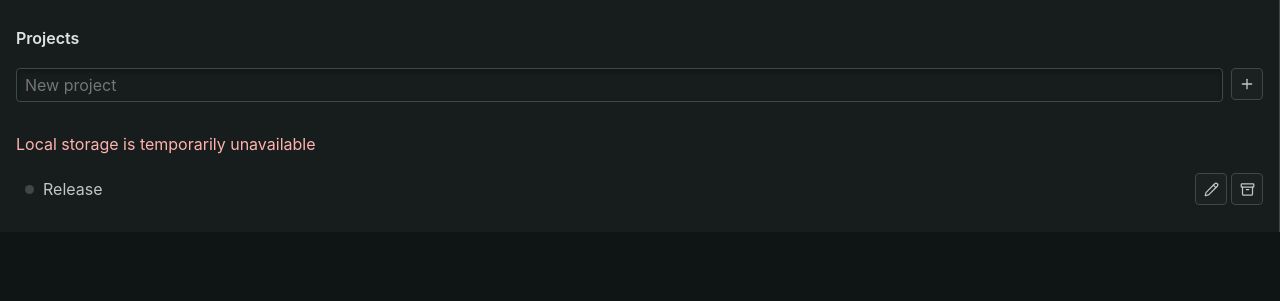
Test: ProjectList › shows list and mutation failures as separate alerts
Type "Planning" into the field named "Project name" at (620, 85), box [16,68,1223,102]
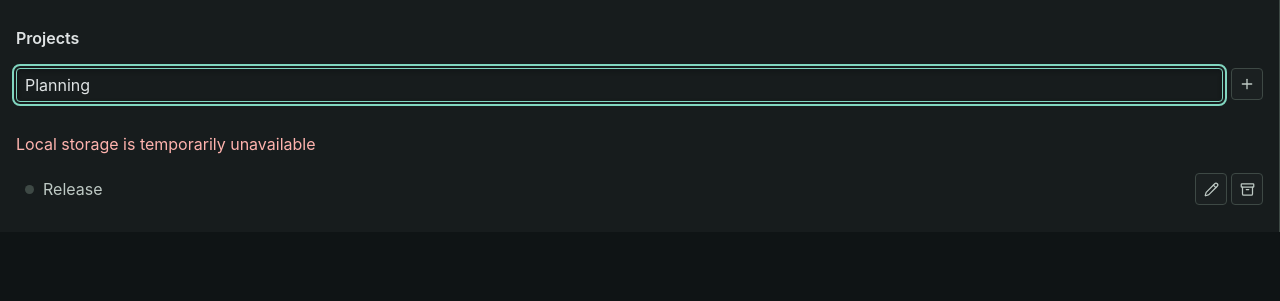
Click the button named "Create project" at (1247, 84), box [1231,68,1263,100]
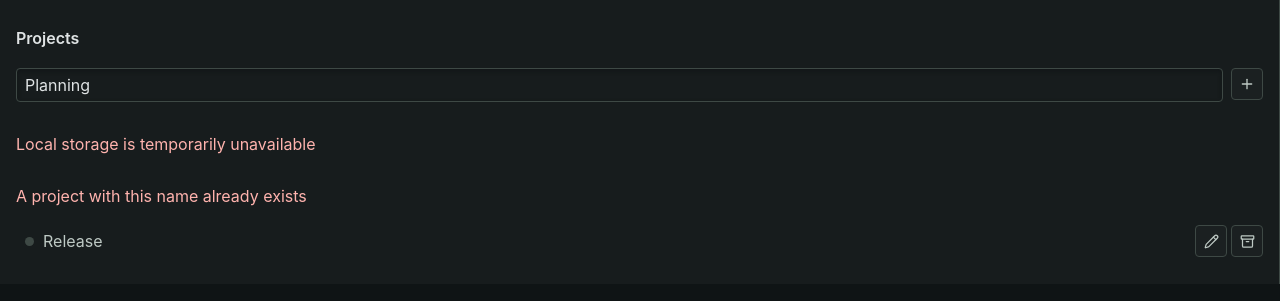
Expected: the message "Local storage is temporarily unavailable" is shown, [16,134,316,154]
Expected: the number of messages is 2, [16,134,316,154]; [16,186,307,206]
Expected: the message "A project with this name already exists" is shown, [16,186,307,206]
